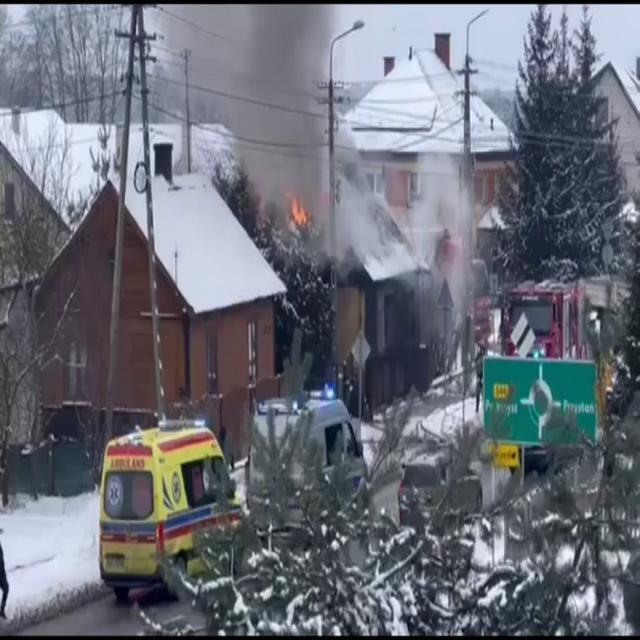Fire: (287, 196, 312, 233)
Smoke: (213, 4, 386, 270), (402, 135, 476, 312)
